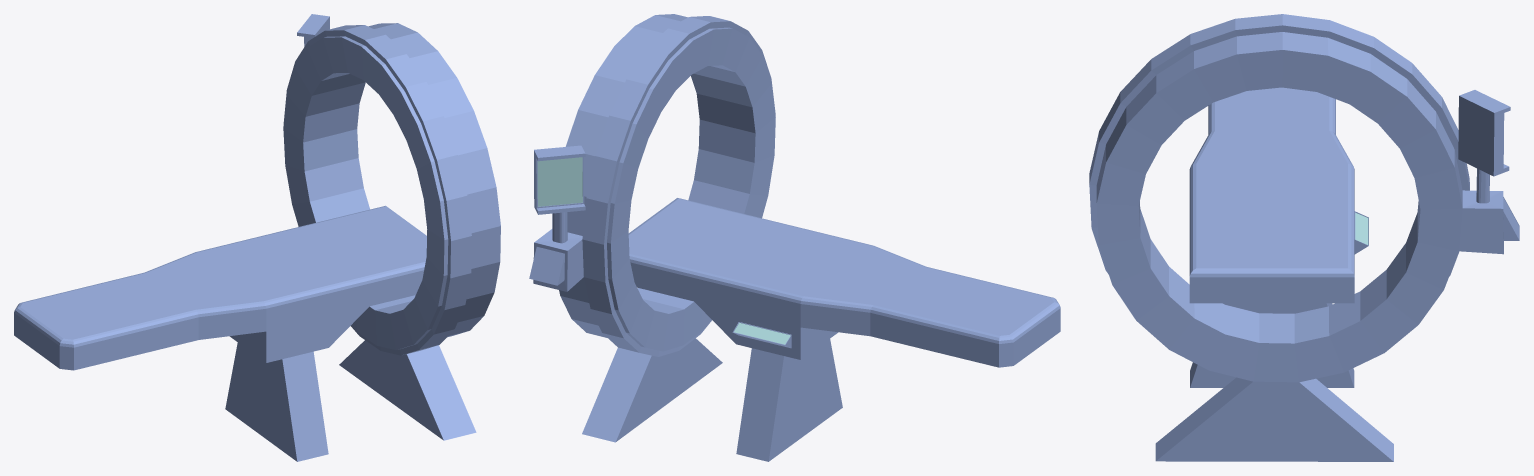
The model's file is med.fbx.
3 views of the same model, side by side, from view 1: azimuth 30°, elevation 25°; view 2: azimuth 150°, elevation 25°; view 3: azimuth 270°, elevation 25° (orthographic). The views are drawn at different scales.
Visible parts, largest first — view 1: med; view 2: med; view 3: med.
Boxes of the visible parts, <box> form: med: <box>14,14,500,461</box>; med: <box>529,14,1060,461</box>; med: <box>1089,14,1519,461</box>.
Size of the model in its own units: 1.9 by 1.59 by 1.71.
